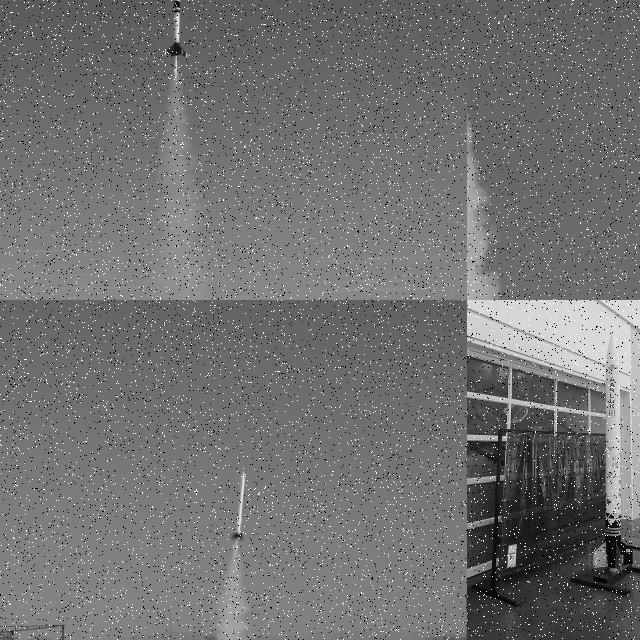Rocket: (593, 331, 633, 573), (164, 0, 189, 57), (230, 470, 246, 540)
